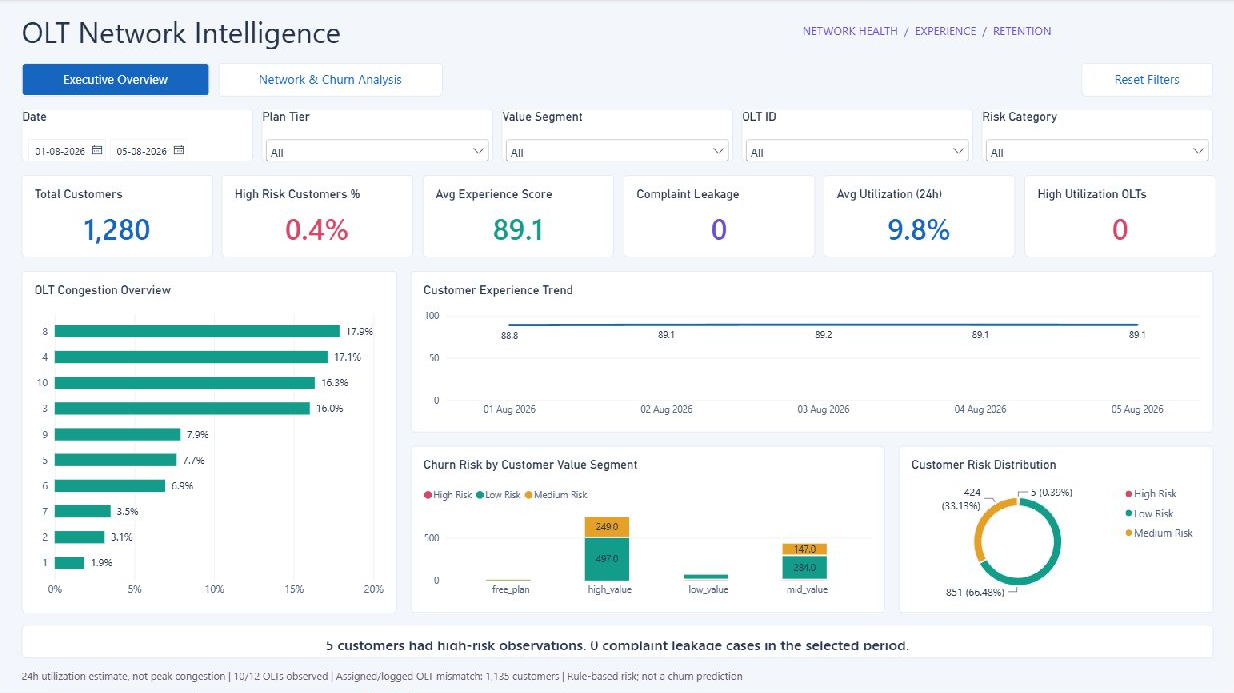

This screenshot's page, from the dashboard's own definition file:
{"tool":"powerbi","page":{"name":"Executive Overview","canvas":[1600,900],"ordinal":0},"visuals":[{"type":"textbox","box":[28,17,980,54],"z":1},{"type":"textbox","box":[1040,31,530,32],"z":2},{"type":"actionButton","box":[28,83,244,43],"z":3},{"type":"actionButton","box":[284,83,290,43],"z":4},{"type":"actionButton","box":[1402,83,170,43],"z":5},{"type":"slicer","title":"Date","fields":{"Values":["DateTable.Date"]},"box":[28,142,300,68],"z":6},{"type":"slicer","title":"Plan Tier","fields":{"Values":["plans_clean.plan_tier"]},"box":[339,142,300,68],"z":7},{"type":"slicer","title":"Value Segment","fields":{"Values":["customers_clean.value_segment"]},"box":[650,142,300,68],"z":8},{"type":"slicer","title":"OLT ID","fields":{"Values":["olt_info_clean.olt_id"]},"box":[961,142,300,68],"z":9},{"type":"slicer","title":"Risk Category","fields":{"Values":["customer_daily_metrics.churn_risk_category"]},"box":[1272,142,300,68],"z":10},{"type":"card","title":"Total Customers","fields":{"Values":["_Measures.Total Customers"]},"box":[28,228,248,106],"z":11},{"type":"card","title":"High Risk Customers %","fields":{"Values":["_Measures.% High Risk Customers"]},"box":[288,228,248,106],"z":12},{"type":"card","title":"Avg Experience Score","fields":{"Values":["_Measures.Avg Experience Score"]},"box":[548,228,248,106],"z":13},{"type":"card","title":"Complaint Leakage","fields":{"Values":["_Measures.Complaint Leakage Customers"]},"box":[808,228,248,106],"z":14},{"type":"card","title":"Avg Utilization (24h)","fields":{"Values":["_Measures.Avg Congestion Ratio"]},"box":[1068,228,248,106],"z":15},{"type":"card","title":"High Utilization OLTs","fields":{"Values":["_Measures.High Congestion OLTs"]},"box":[1328,228,248,106],"z":16},{"type":"textbox","box":[28,866,1544,25],"z":17},{"type":"barChart","title":"OLT Congestion Overview","fields":{"Category":["olt_info_clean.olt_id"],"Y":["_Measures.Avg Congestion Ratio"]},"box":[28,352,486,443],"z":35},{"type":"lineChart","title":"Customer Experience Trend","fields":{"Category":["DateTable.Date"],"Y":["_Measures.Avg Experience Score"]},"box":[532,352,1040,209],"z":36},{"type":"columnChart","title":"Churn Risk by Customer Value Segment","fields":{"Category":["customers_clean.value_segment"],"Series":["customer_daily_metrics.churn_risk_category"],"Y":["_Measures.Worst Risk Customers"]},"box":[532,579,614,216],"z":37},{"type":"donutChart","title":"Customer Risk Distribution","fields":{"Category":["customer_daily_metrics.churn_risk_category"],"Y":["_Measures.Worst Risk Customers"]},"box":[1164,579,408,216],"z":38},{"type":"card","fields":{"Values":["_Measures.Executive Insight"]},"box":[28,811,1544,43],"z":39}]}

Visuals, with their boxes in screenshot pixels (x1, y1, x2, y2), scaled from the page's 1600x900 canvas onto the 1234x693 screenshot:
textbox: box=[22, 13, 777, 55]
textbox: box=[802, 24, 1211, 49]
actionButton: box=[22, 64, 210, 97]
actionButton: box=[219, 64, 443, 97]
actionButton: box=[1081, 64, 1212, 97]
"Date" slicer: box=[22, 109, 253, 162]
"Plan Tier" slicer: box=[261, 109, 493, 162]
"Value Segment" slicer: box=[501, 109, 733, 162]
"OLT ID" slicer: box=[741, 109, 973, 162]
"Risk Category" slicer: box=[981, 109, 1212, 162]
"Total Customers" card: box=[22, 176, 213, 257]
"High Risk Customers %" card: box=[222, 176, 413, 257]
"Avg Experience Score" card: box=[423, 176, 614, 257]
"Complaint Leakage" card: box=[623, 176, 814, 257]
"Avg Utilization (24h)" card: box=[824, 176, 1015, 257]
"High Utilization OLTs" card: box=[1024, 176, 1215, 257]
textbox: box=[22, 667, 1212, 686]
"OLT Congestion Overview" barChart: box=[22, 271, 396, 612]
"Customer Experience Trend" lineChart: box=[410, 271, 1212, 432]
"Churn Risk by Customer Value Segment" columnChart: box=[410, 446, 884, 612]
"Customer Risk Distribution" donutChart: box=[898, 446, 1212, 612]
card - _Measures.Executive Insight: box=[22, 624, 1212, 658]
